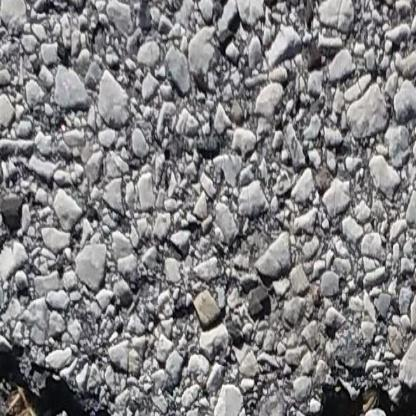Cracks: (0, 339, 122, 416), (278, 381, 416, 416)
